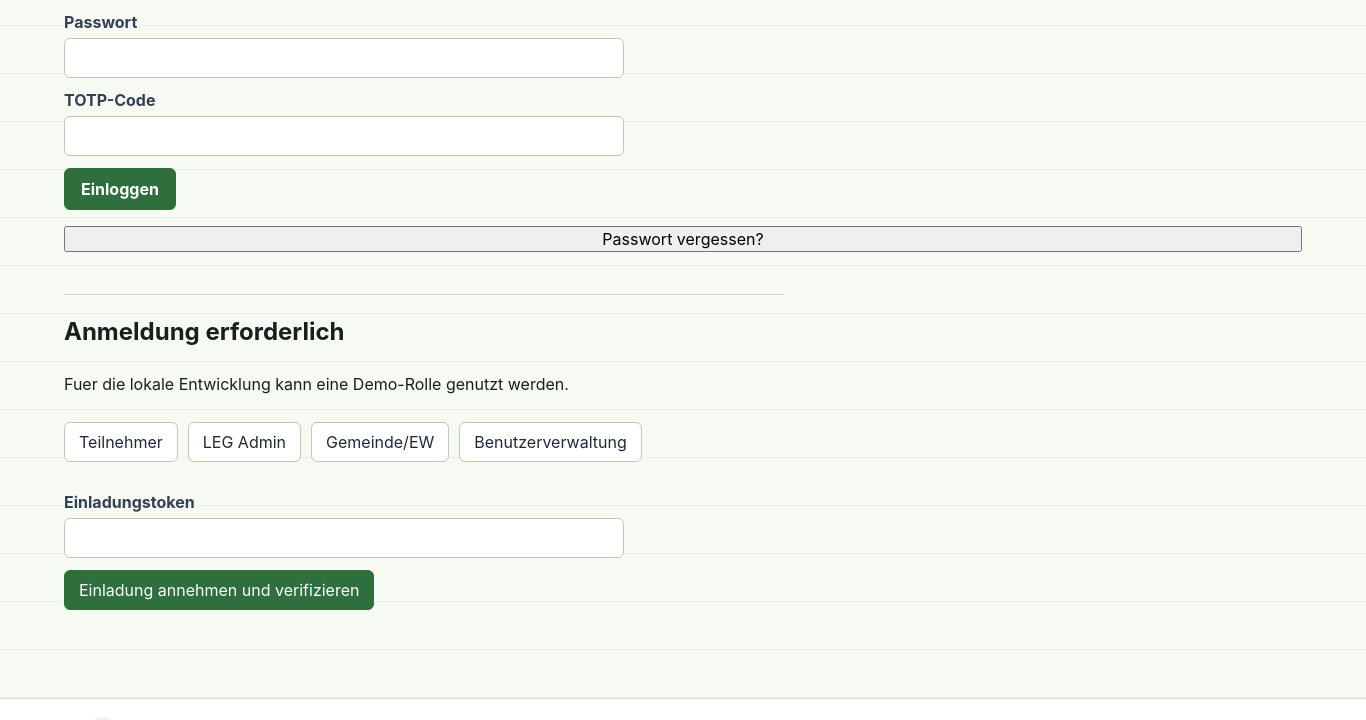
Test: Portal shell › veroeffentlicht als LEG Admin eine Dokumentversion
(page scrolled)
Click the button "LEG Admin": (244, 442) [188, 422, 301, 462]
(page scrolled)
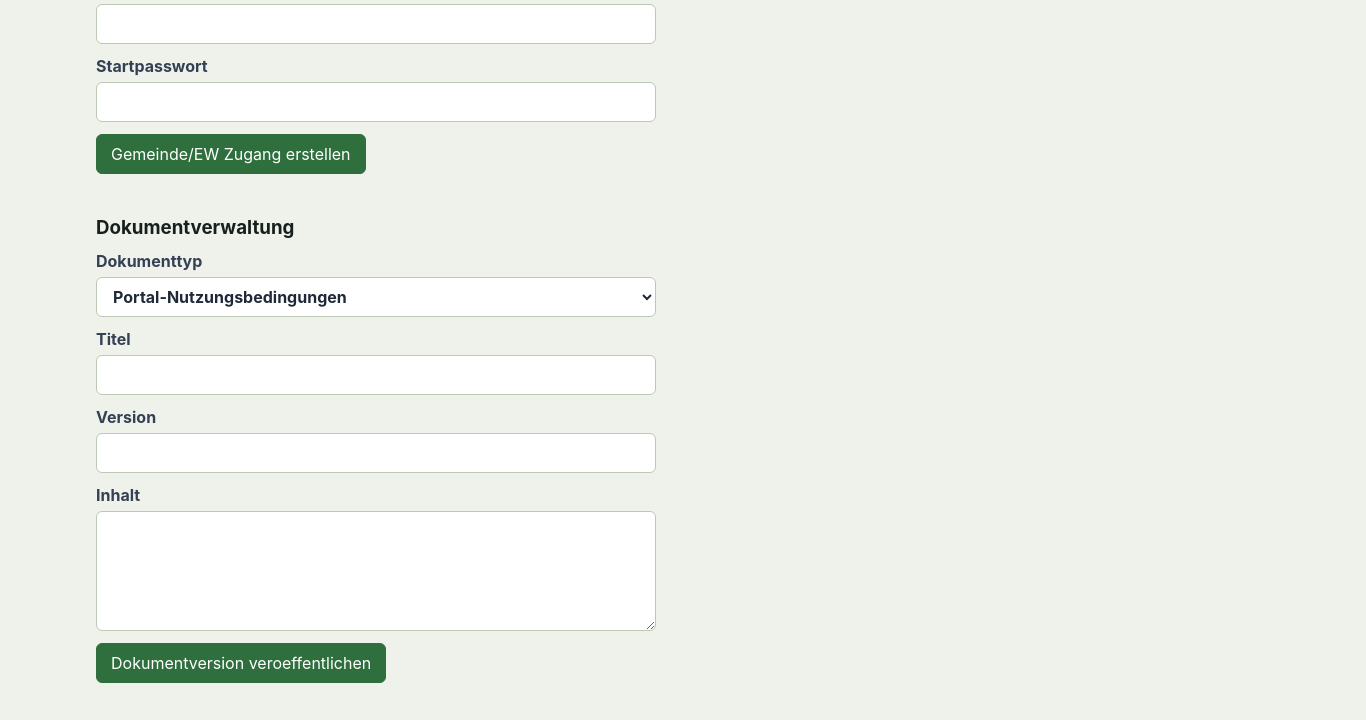
In the field labelled "Titel": (376, 375) [96, 355, 656, 395], type "Portal Nutzungsbedingungen"
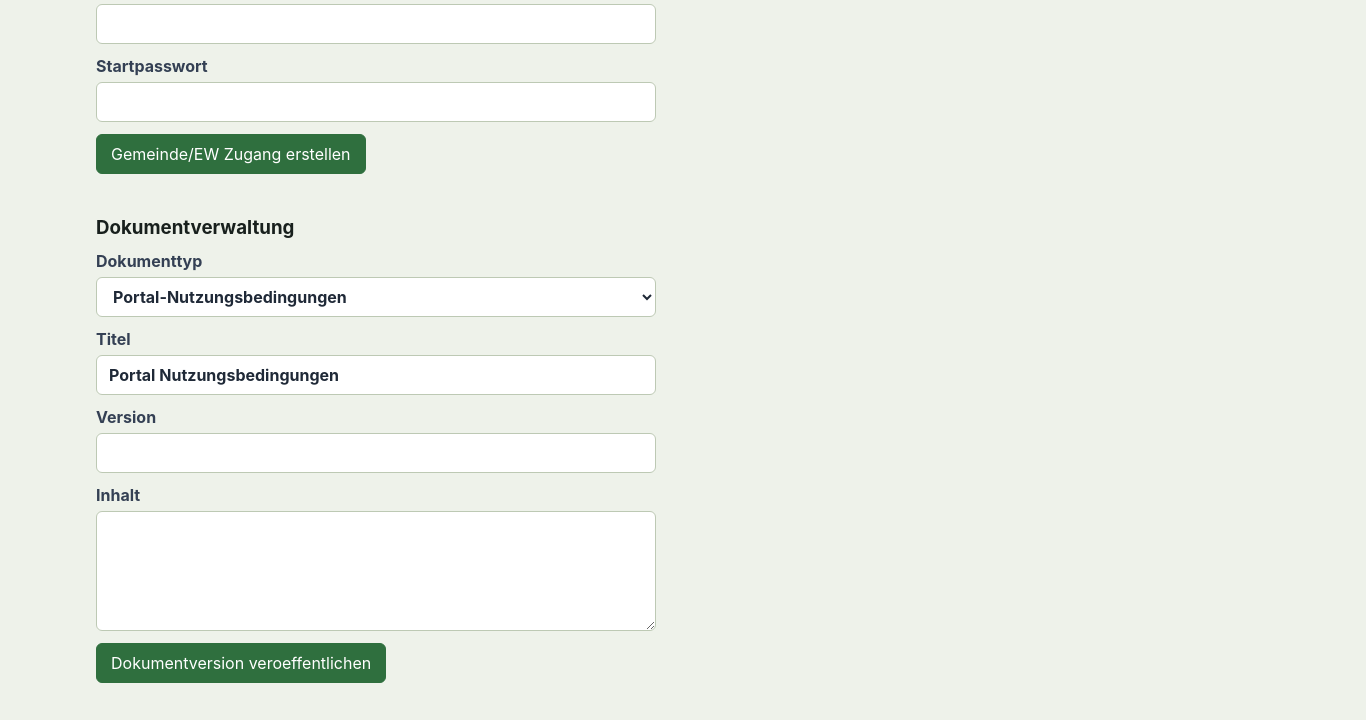
In the field labelled "Version": (376, 453) [96, 433, 656, 473], type "2026-06-22"
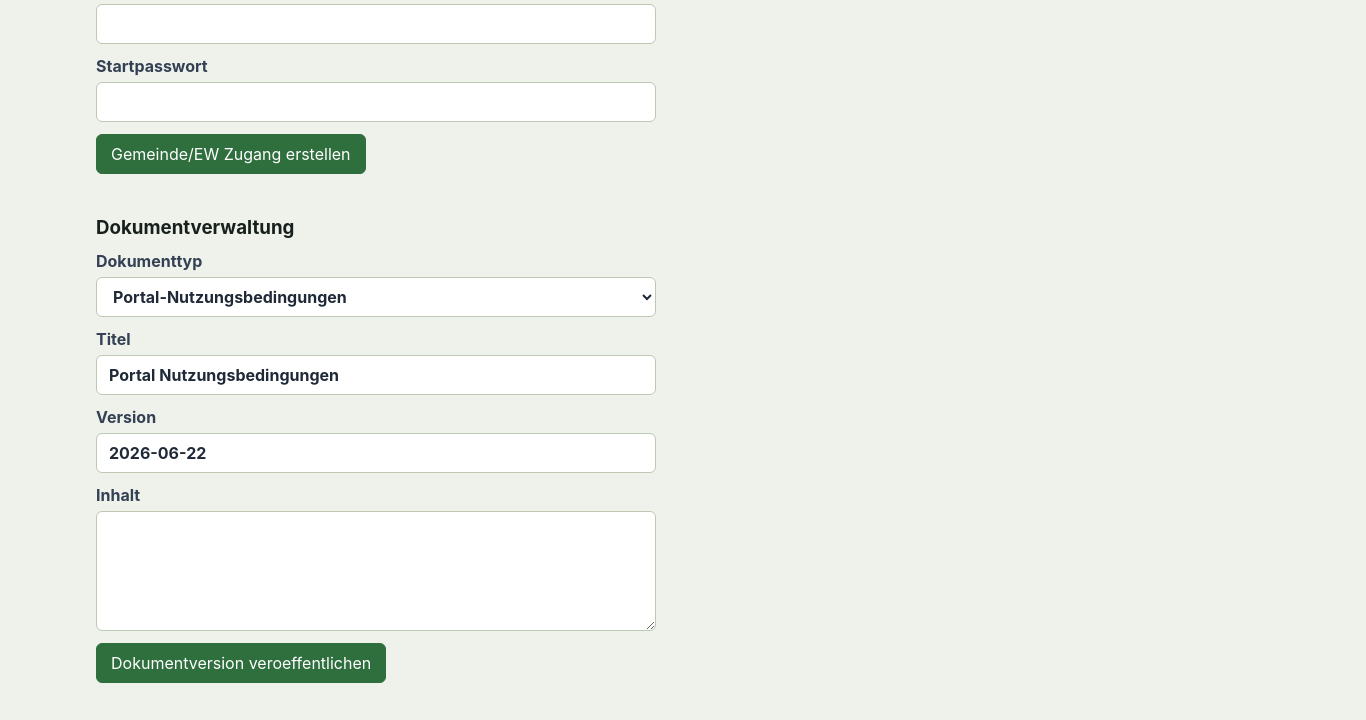
In the text box labelled "Inhalt": (376, 571) [96, 511, 656, 631], type "Teilnahmebedingungen fuer das Portal."
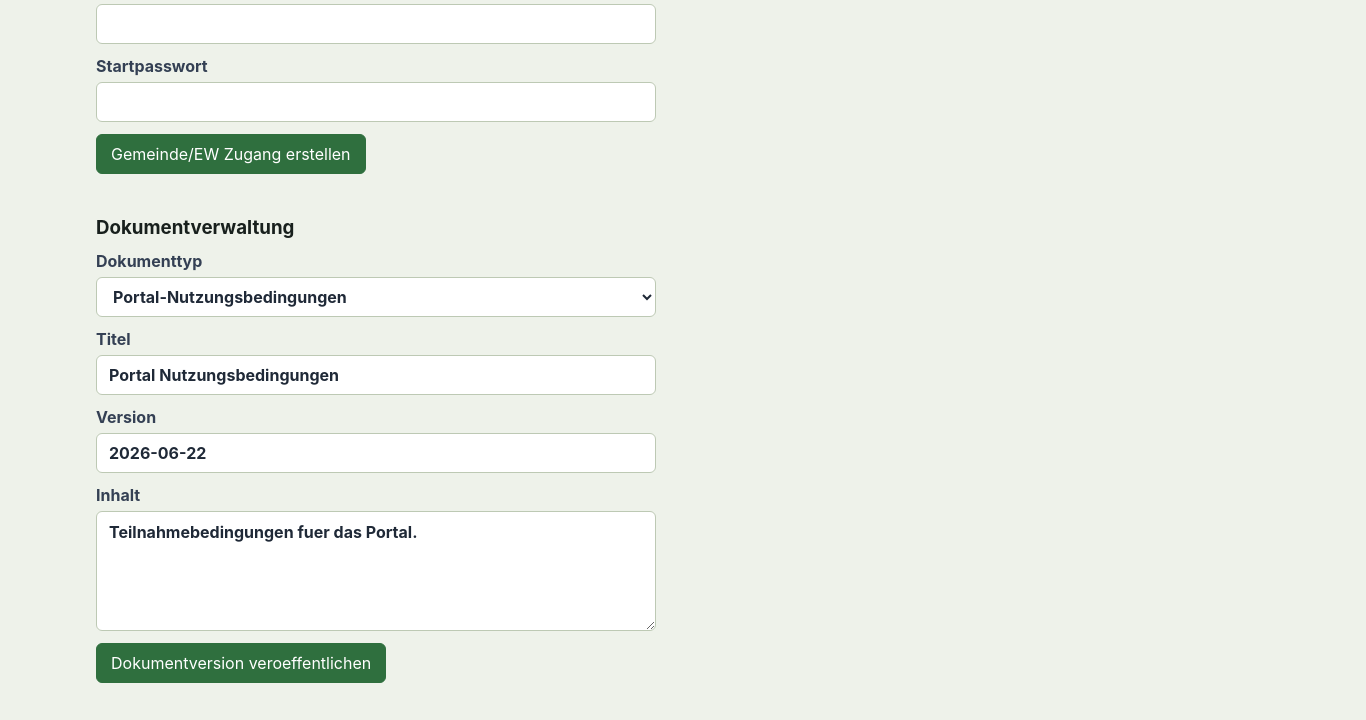
Click the button "Dokumentversion veroeffentlichen": (241, 663) [96, 643, 386, 683]
(page scrolled)
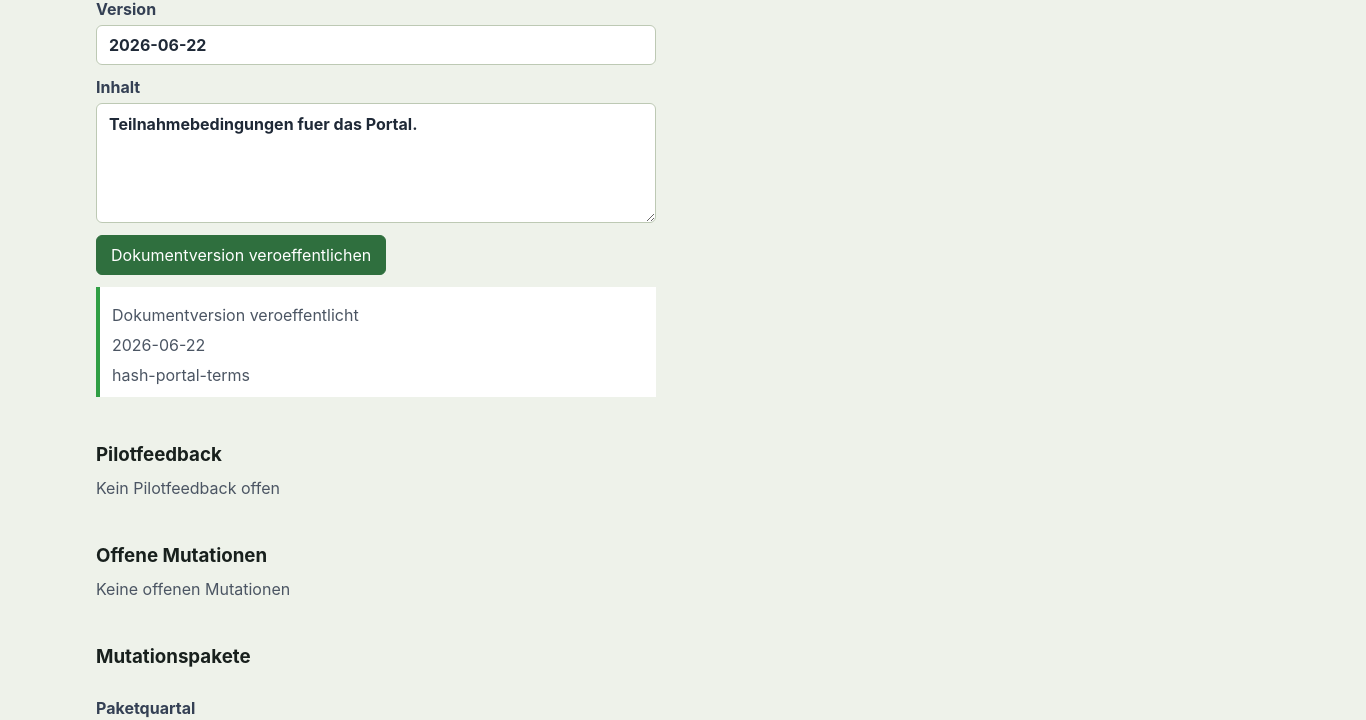
Now the text "Dokumentversion veroeffentlicht" is shown, box [112, 305, 359, 325]
Now the text "2026-06-22" is shown, box [112, 335, 205, 355]
Now the text "hash-portal-terms" is shown, box [112, 365, 250, 385]
